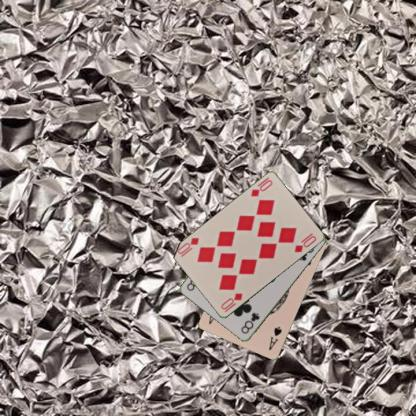10d: (218, 290, 244, 314), (248, 178, 274, 198)
8c: (239, 310, 261, 335)
As: (266, 323, 283, 352)
